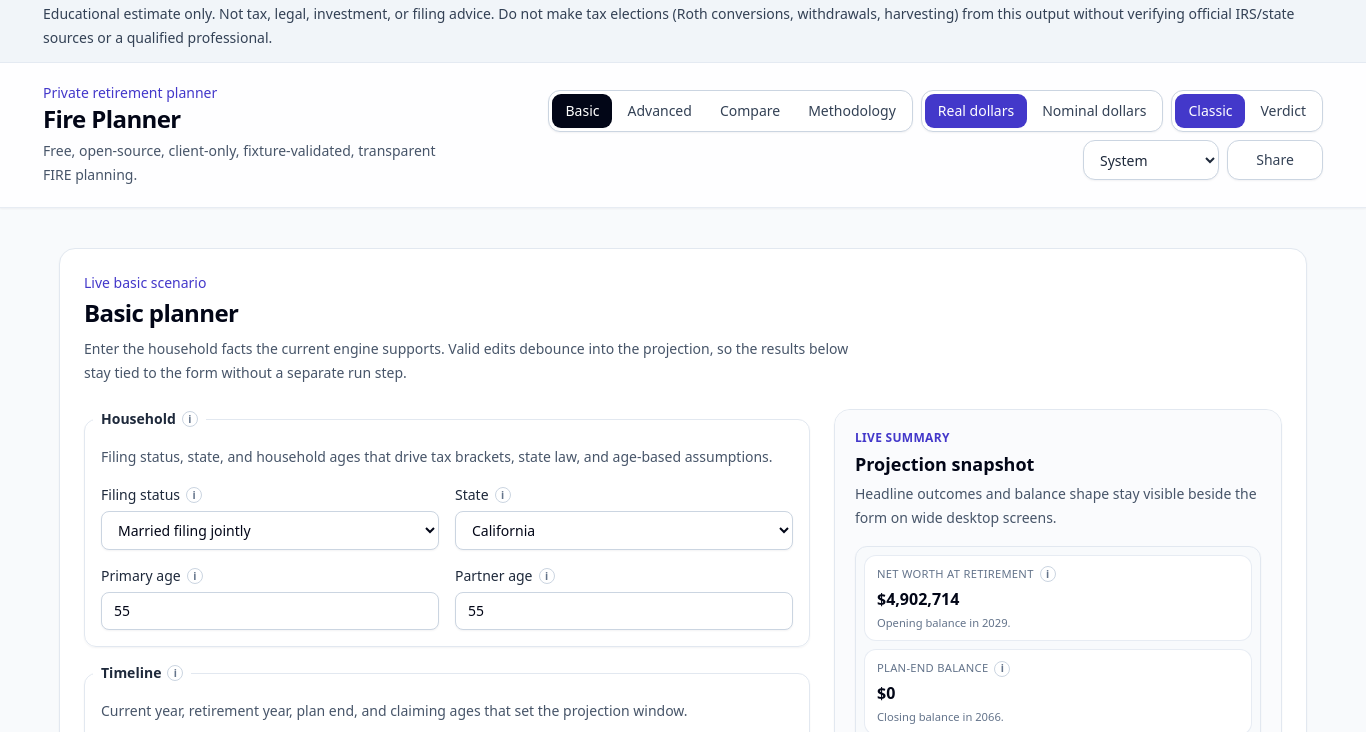
Scenario: advanced Gate 4 app flow › renders two saved scenarios side-by-side in compare view
The width and height of the screenshot is (1366, 732).
Click the button "Compare" at (750, 111), box [708,95,792,127]
(page scrolled)
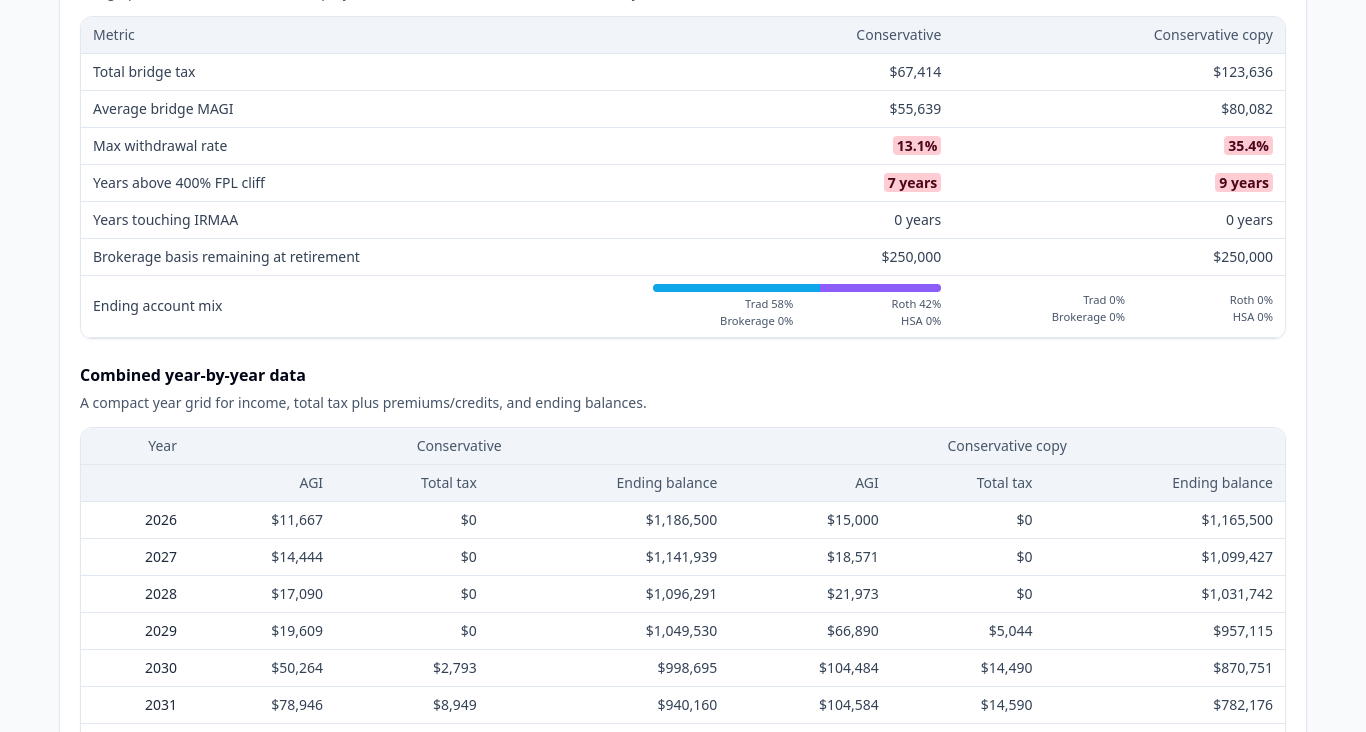
Check: the heading "Combined year-by-year data" is shown, box [80,364,306,386]
